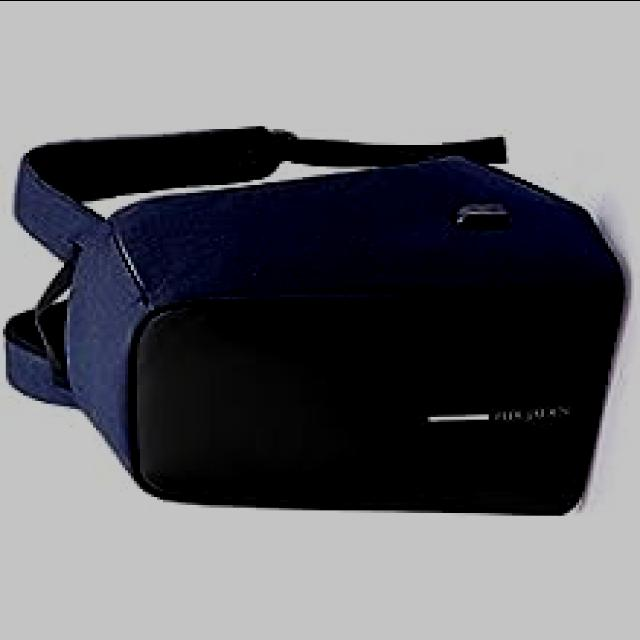backpack: (2, 127, 624, 519)
